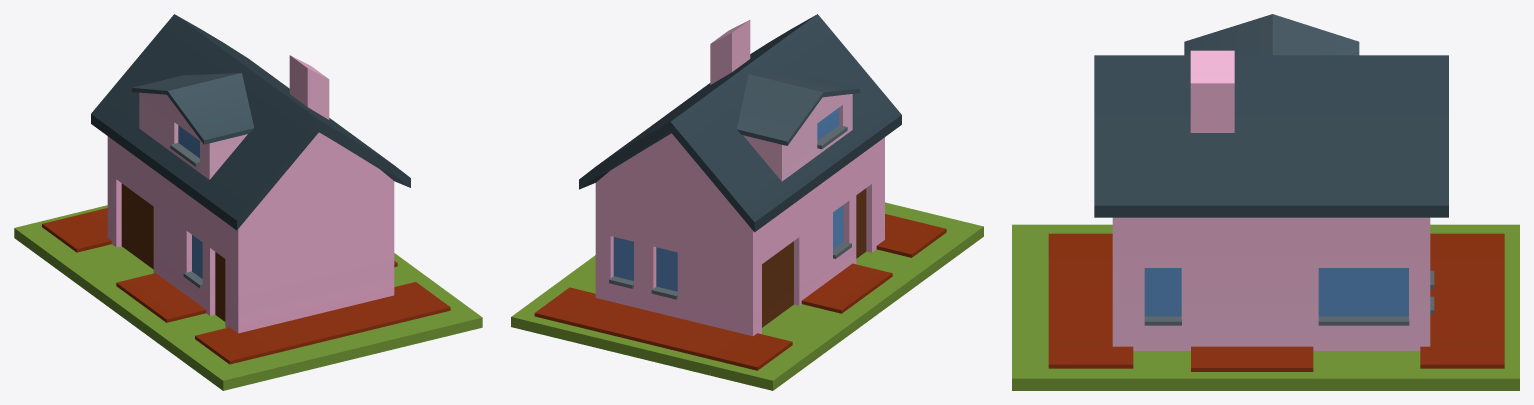
File: Outer House1.fbx
3 renders of one model, left to right at view 1: azimuth 30°, elevation 25°; view 2: azimuth 150°, elevation 25°; view 3: azimuth 270°, elevation 25°, orthographic. The views are drawn at different scales.
Parts seen in each view (by area): view 1: Outer_House1; view 2: Outer_House1; view 3: Outer_House1.
Boxes of the visible parts, x1,y1,x2,y2 form: Outer_House1: [14, 14, 482, 390]; Outer_House1: [511, 14, 983, 390]; Outer_House1: [1012, 14, 1519, 390].
Bounding box in the file's own units: 720 × 611 × 1004.
2 materials, 1 textured.
